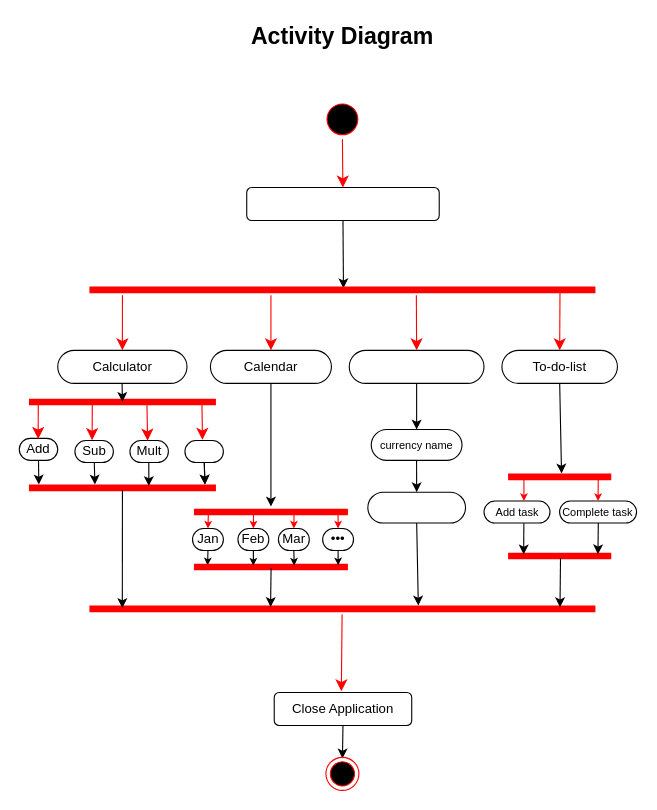
Some shapes in this 657 by 810 pixel diagram are drawn without their labels. The centre of each missing label's shape, as x and y in pixels:
currency amount: the point at 416,507
Currency Converter: the point at 416,366
Div: the point at 203,451
Open the application: the point at 342,203
